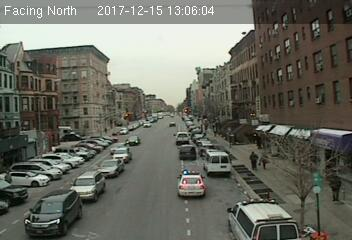car: (24, 189, 83, 237), (71, 171, 106, 202), (95, 158, 124, 178), (177, 144, 198, 160), (112, 147, 133, 161), (173, 131, 192, 144), (125, 137, 141, 146)
pedestrian: (260, 152, 270, 173), (250, 151, 260, 171)
police: (226, 198, 302, 239), (177, 170, 206, 197)
truck: (203, 151, 231, 176)
